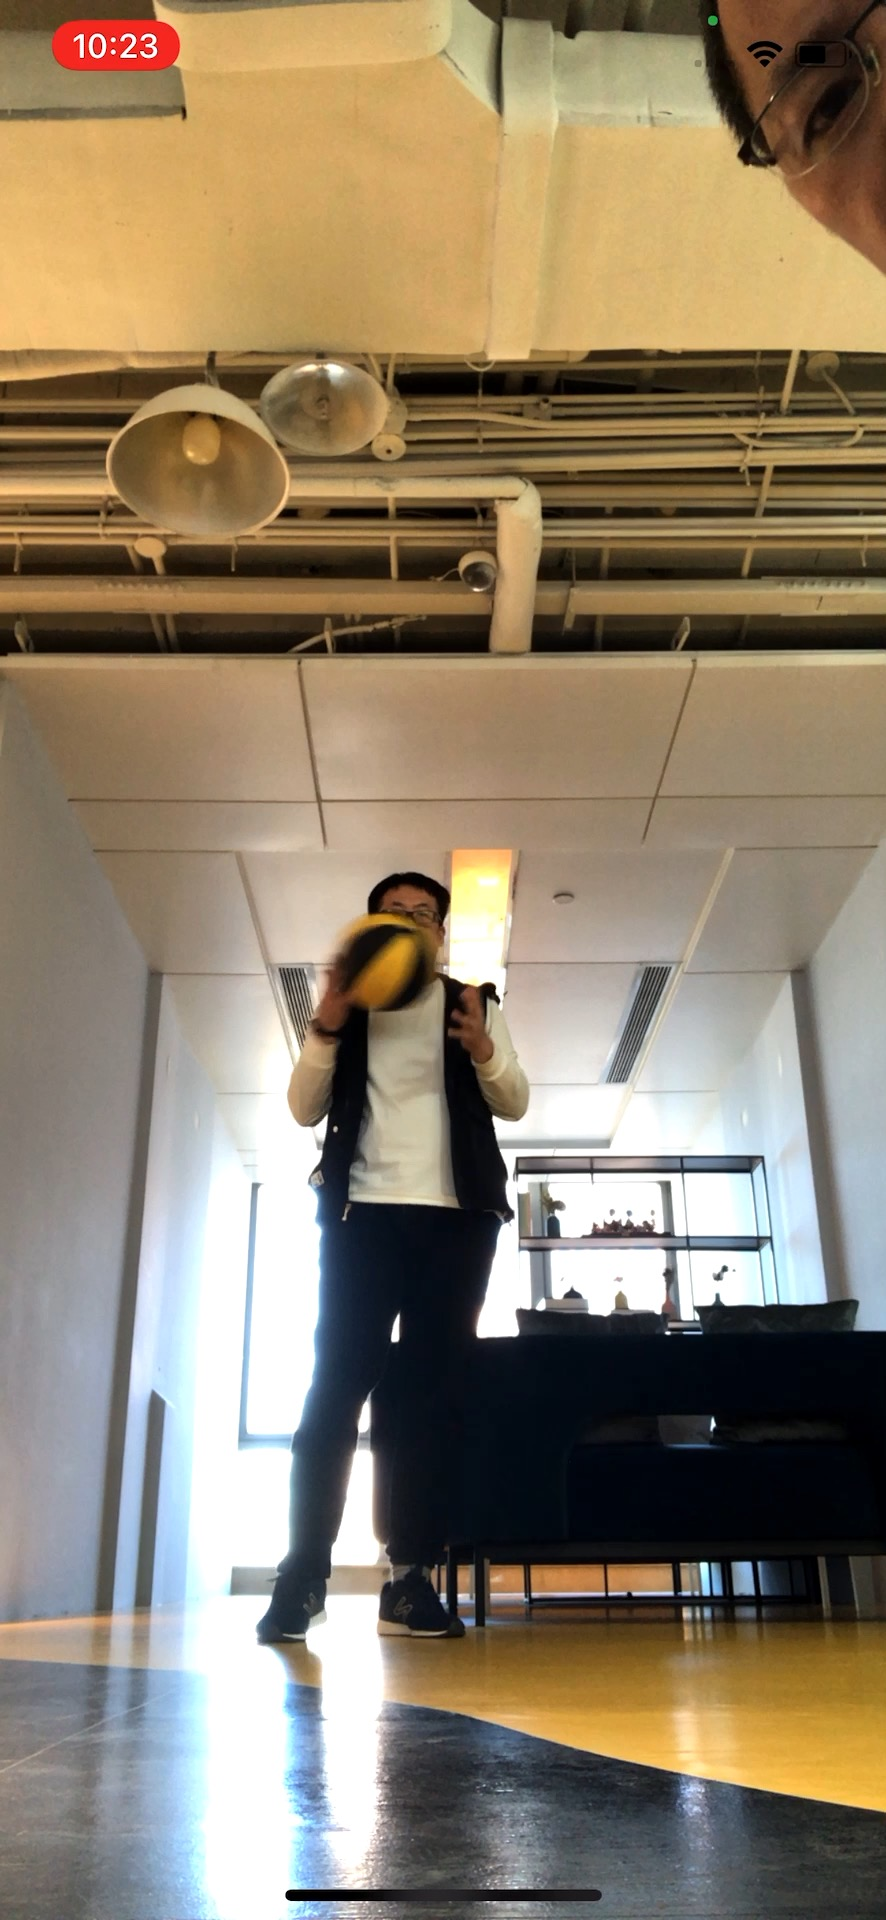ball: (335, 916, 439, 1014)
